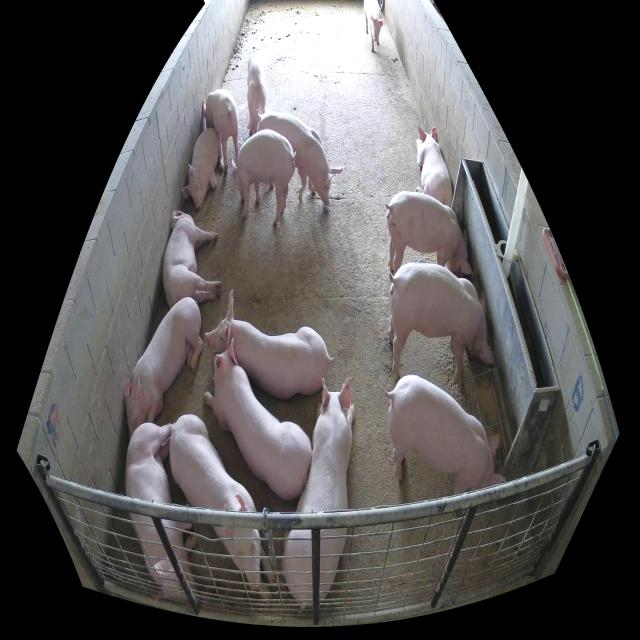pig: (169, 415, 278, 603), (202, 341, 312, 501), (282, 376, 356, 609), (126, 423, 204, 605), (387, 375, 505, 495), (206, 288, 331, 398), (387, 263, 495, 387), (125, 299, 203, 438), (255, 110, 343, 206), (387, 191, 475, 278), (231, 129, 295, 227), (162, 211, 224, 307), (182, 127, 223, 212), (416, 124, 453, 208), (203, 88, 239, 167), (246, 53, 266, 136), (364, 0, 384, 52)
